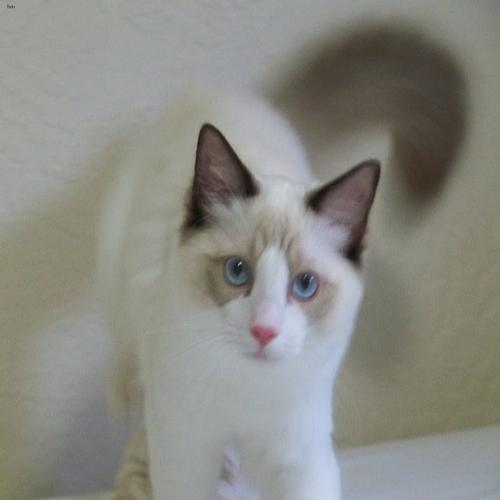ragdoll: (181, 113, 391, 391)
